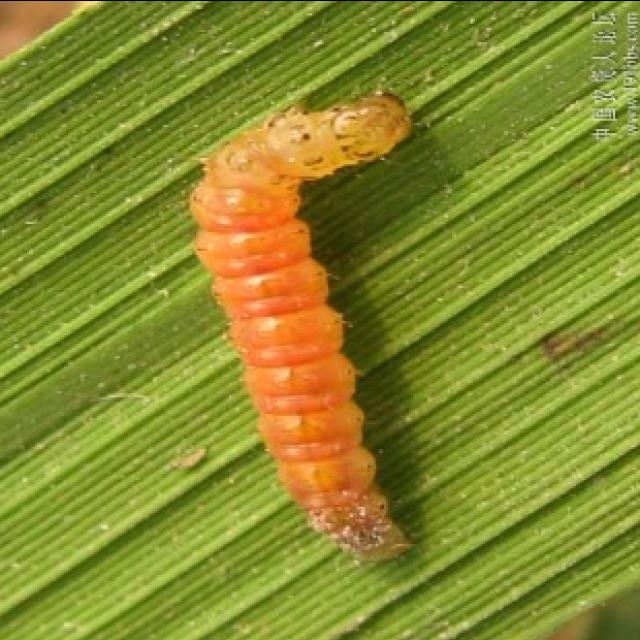rice leaf roller: (190, 95, 407, 557)
